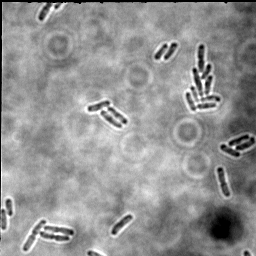Dividing: (21, 219, 47, 253), (215, 166, 232, 199), (39, 231, 70, 244), (42, 225, 75, 237)
Microcolony: (184, 42, 222, 112)
Rod: (110, 214, 134, 237), (99, 111, 124, 129), (106, 106, 128, 125), (86, 99, 112, 114), (219, 142, 241, 159), (227, 133, 250, 148), (163, 42, 179, 62), (235, 137, 256, 152), (153, 42, 169, 61), (4, 197, 15, 217), (1, 208, 8, 231)
